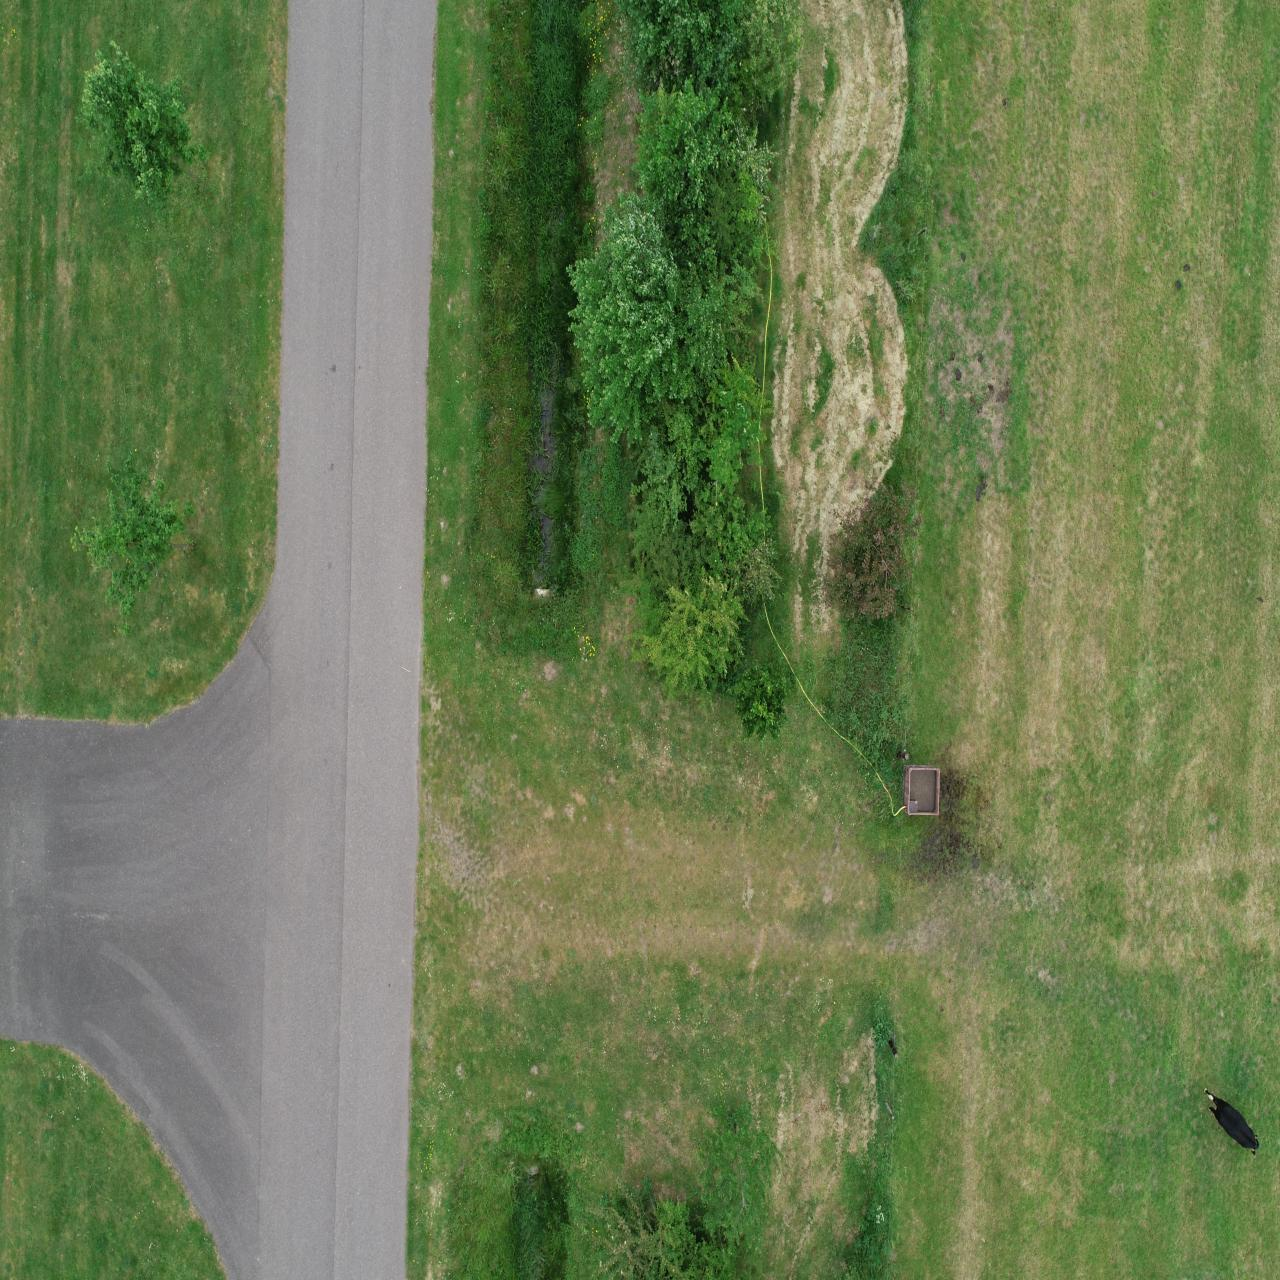cow: (1204, 1088, 1259, 1156)
